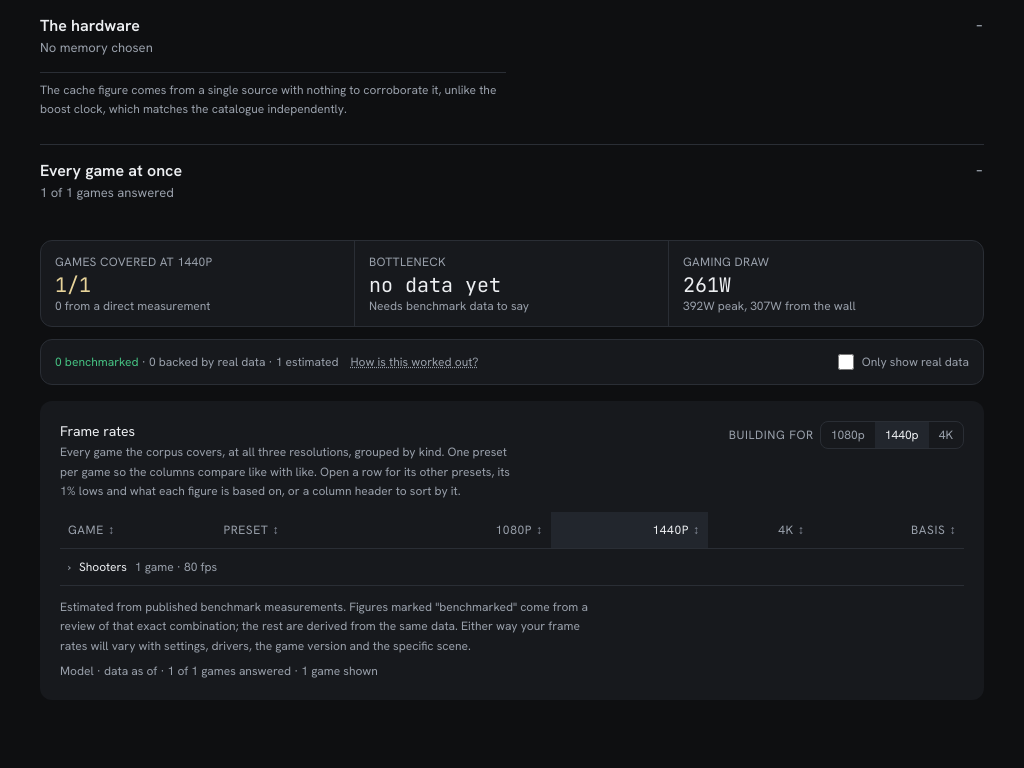
Scenario: PerformanceScreen — the real-data filter wiring › explains an empty grid rather than just emptying it
The image size is (1024, 768).
(page scrolled)
Click the button "› Shooters 1 game · 80 fps" at (103, 567), box [68,555,956,579]
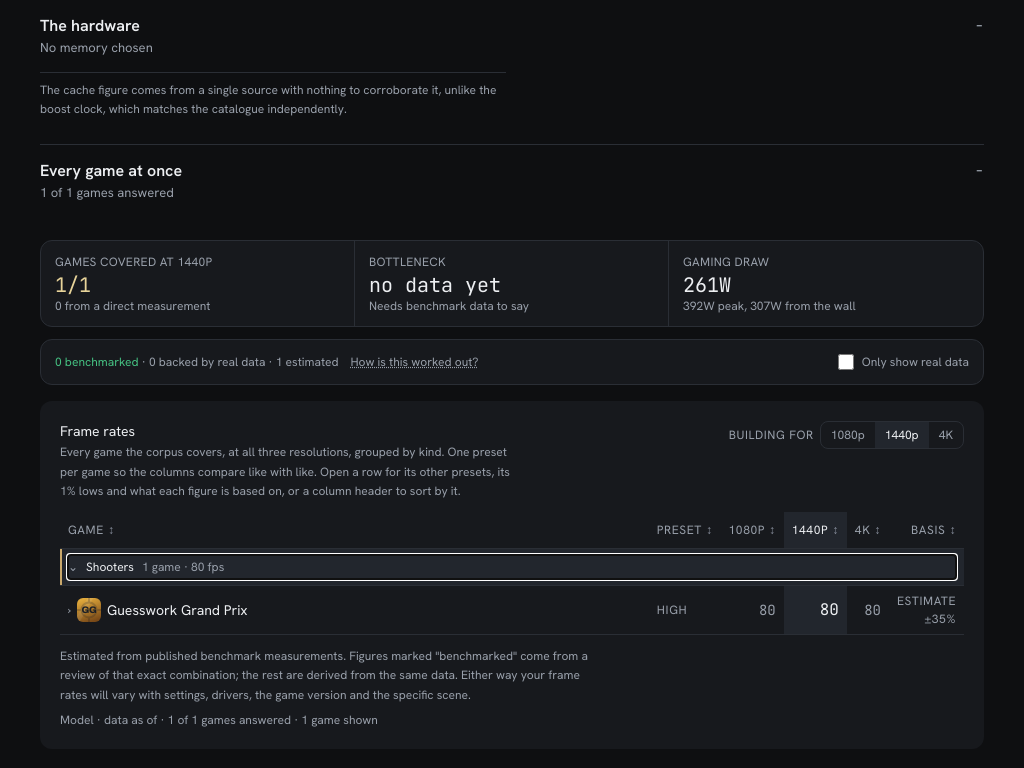
Expected: the text "nothing here was measured" is not shown
Result: the text "Guesswork Grand Prix" is shown at [107,600,248,620]
Click the checkbox labelled "Only show real data" at (846, 362), box [838,354,854,370]
(page scrolled)
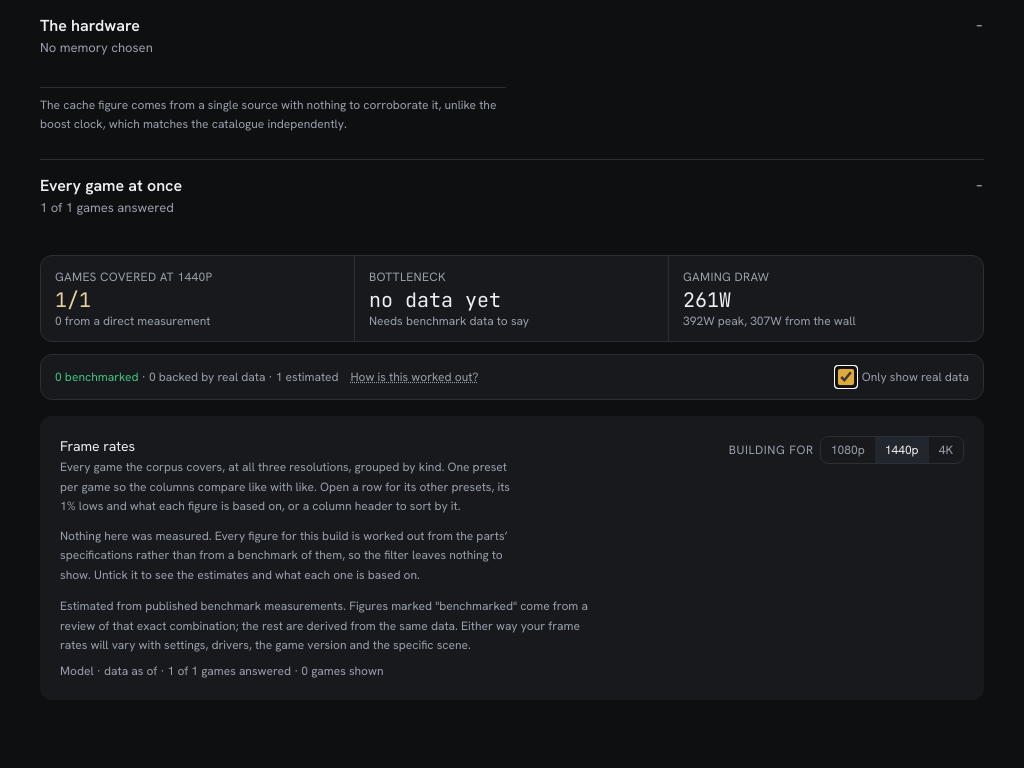
Expected: the text "0 benchmarked · 0 backed by real data · 1 estimated" is shown, [55,368,338,386]
Result: the button "Guesswork Grand Prix" is gone
Result: the text "Nothing here was measured" is shown at [60,528,508,583]
